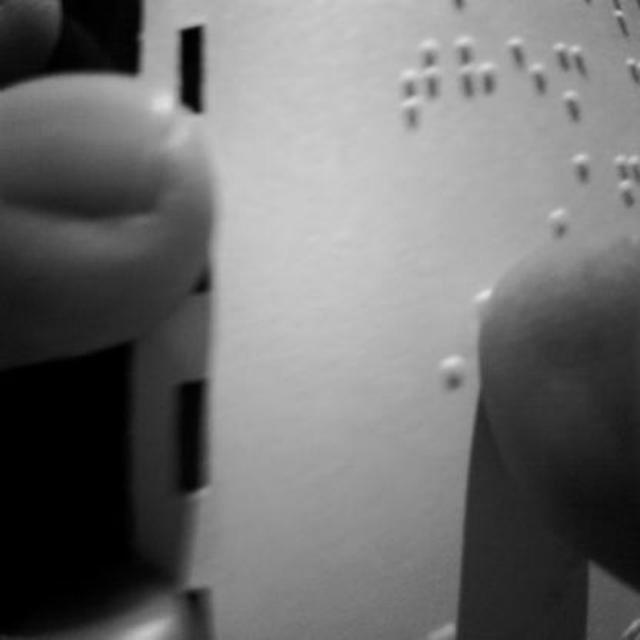braiile: (452, 37, 502, 133), (553, 34, 597, 130), (508, 35, 550, 135), (402, 40, 443, 136)
